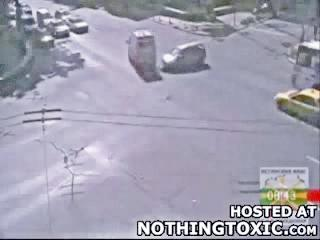Car: (275, 86, 320, 125), (289, 40, 320, 90), (165, 40, 209, 70), (129, 33, 157, 70), (62, 15, 88, 34), (46, 18, 70, 38), (33, 27, 53, 47), (36, 8, 52, 28), (19, 2, 33, 17), (7, 1, 17, 19), (55, 8, 69, 20)
